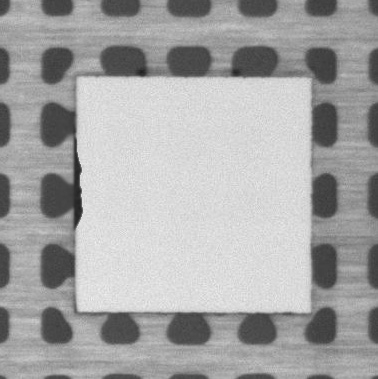DIE_BROKEN: (71, 120, 85, 231)
